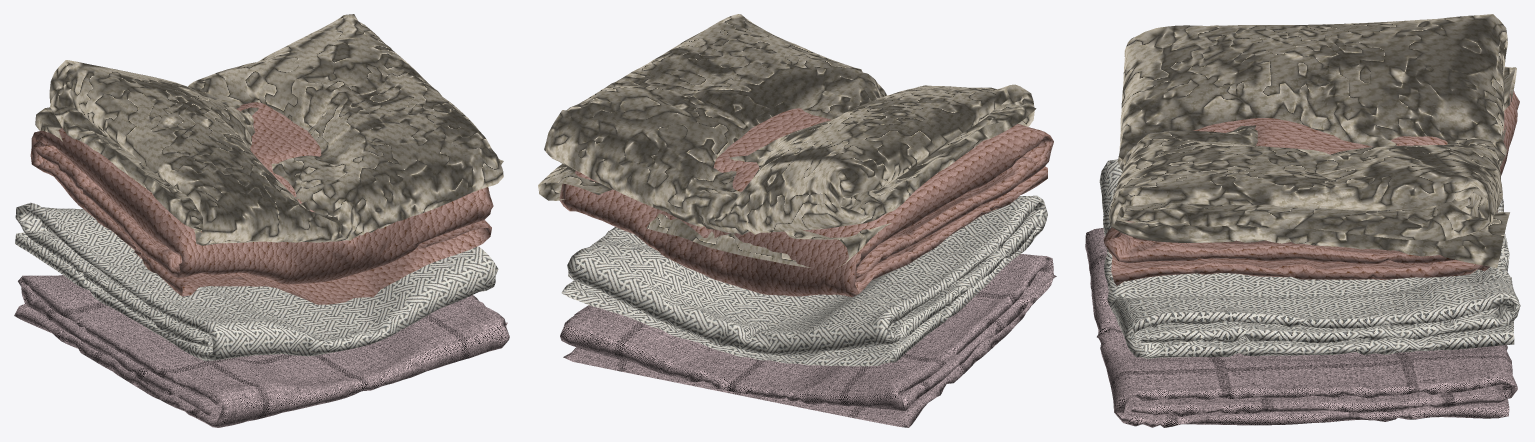
Rendered from w5-shelf-stack-set_14_026.glb.
3 renders of one model, left to right at view 1: azimuth 30°, elevation 25°; view 2: azimuth 150°, elevation 25°; view 3: azimuth 270°, elevation 25°, orthographic. The views are drawn at different scales.
Parts seen in each view (by area): view 1: Shelf_set_14_012.001, Shelf_set_14_037, Shelf_set_14_012, Shelf_set_14_026; view 2: Shelf_set_14_012.001, Shelf_set_14_012, Shelf_set_14_037, Shelf_set_14_026; view 3: Shelf_set_14_012.001, Shelf_set_14_012, Shelf_set_14_026, Shelf_set_14_037.
Part boxes in pixels (x1,y1,x2,y2): Shelf_set_14_012.001: (35, 14, 503, 245); Shelf_set_14_037: (30, 102, 493, 304); Shelf_set_14_012: (15, 202, 498, 360); Shelf_set_14_026: (14, 275, 509, 427); Shelf_set_14_012.001: (538, 14, 1036, 267); Shelf_set_14_012: (561, 195, 1047, 366); Shelf_set_14_037: (559, 108, 1053, 297); Shelf_set_14_026: (560, 254, 1056, 427); Shelf_set_14_012.001: (1108, 14, 1516, 267); Shelf_set_14_012: (1099, 159, 1520, 358); Shelf_set_14_026: (1085, 228, 1517, 427); Shelf_set_14_037: (1103, 90, 1519, 285).
Bounding box in the file's own units: 0.3144 × 0.203 × 0.3031.
Materials: 4 (4 with a texture image).
